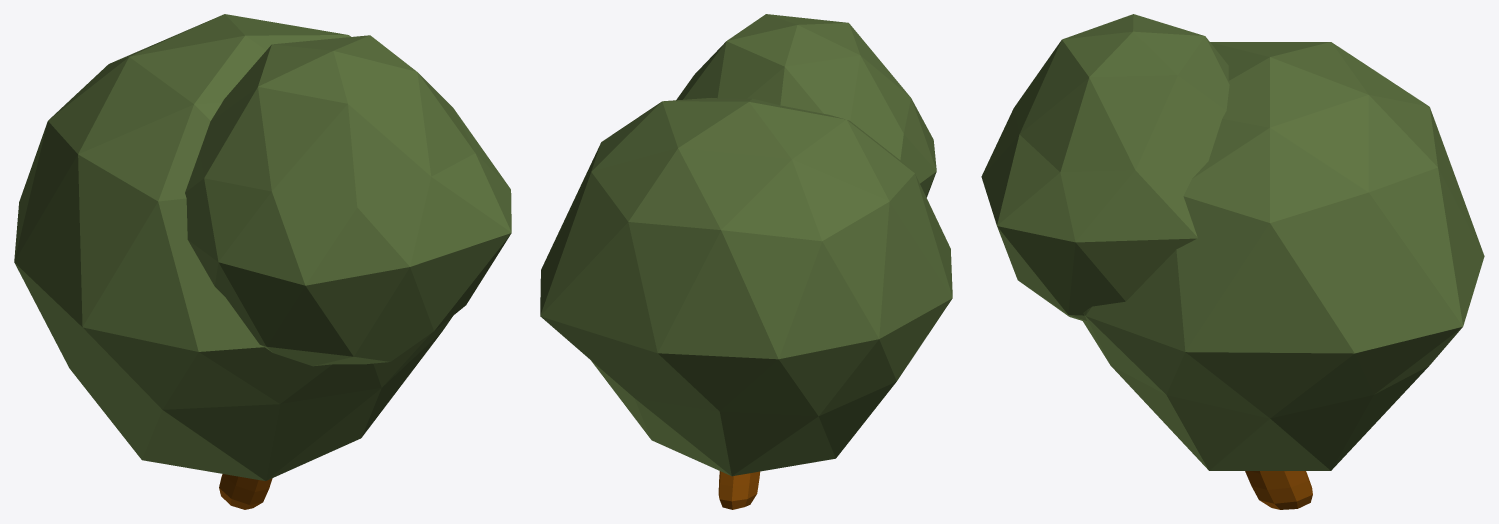
File: Arbusto.fbx
3 views of the same model, side by side, from view 1: azimuth 30°, elevation 25°; view 2: azimuth 150°, elevation 25°; view 3: azimuth 270°, elevation 25° (orthographic). The views are drawn at different scales.
Parts seen in each view (by area): view 1: Icosphere.001; view 2: Icosphere.001; view 3: Icosphere.001.
Boxes of the visible parts, left/top/right/bottom form: Icosphere.001: left=14, top=14, right=511, bottom=509; Icosphere.001: left=540, top=14, right=952, bottom=509; Icosphere.001: left=981, top=14, right=1484, bottom=509.
Size of the model in its own units: 138 by 166 by 157.
